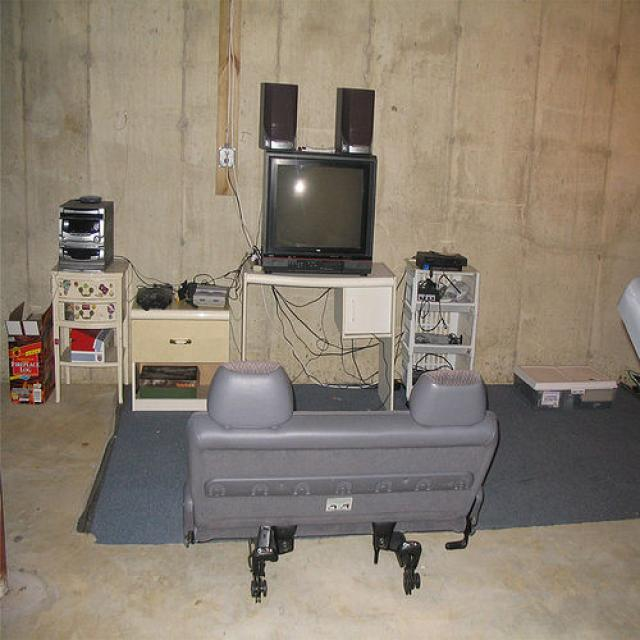tvmonitor: (257, 149, 375, 275)
